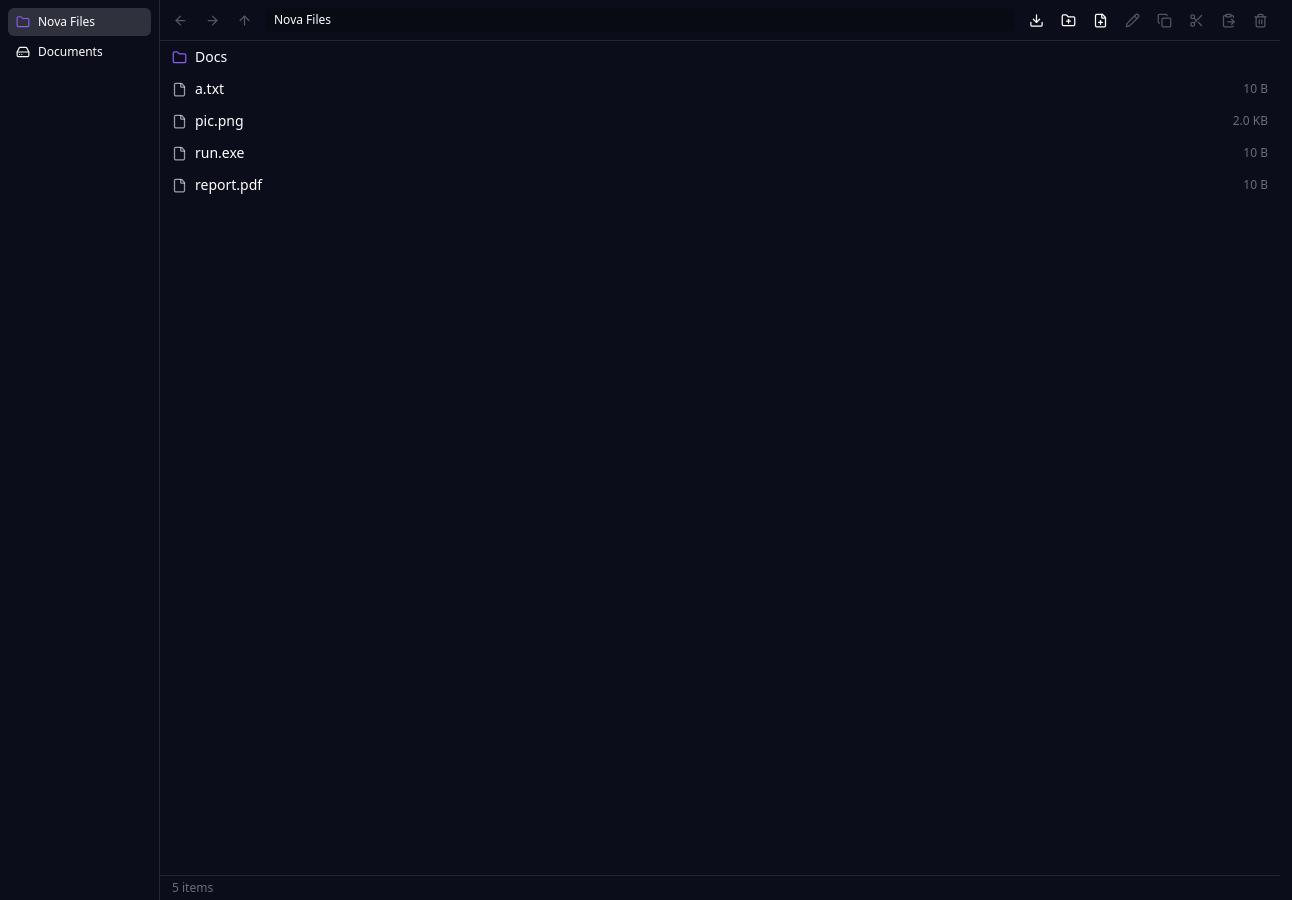
Test case: Nova Files › opens folders, navigates back and up
Double-click the button "Docs" at (211, 56), box left=160, top=41, right=1280, bottom=73
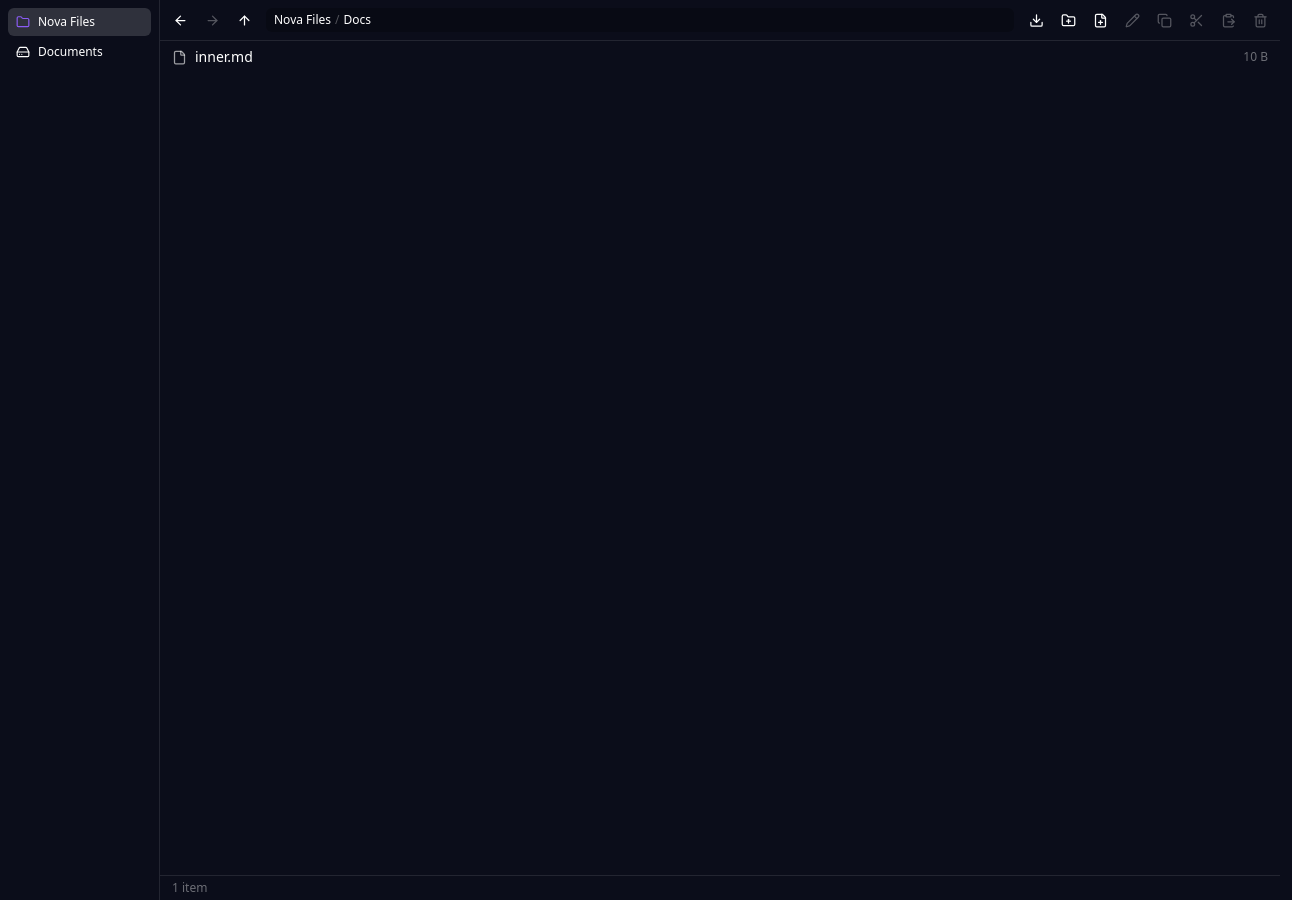
Result: the text "inner.md" is shown at left=195, top=47, right=253, bottom=66
Click the button named "Up" at (244, 20), box left=230, top=6, right=258, bottom=34
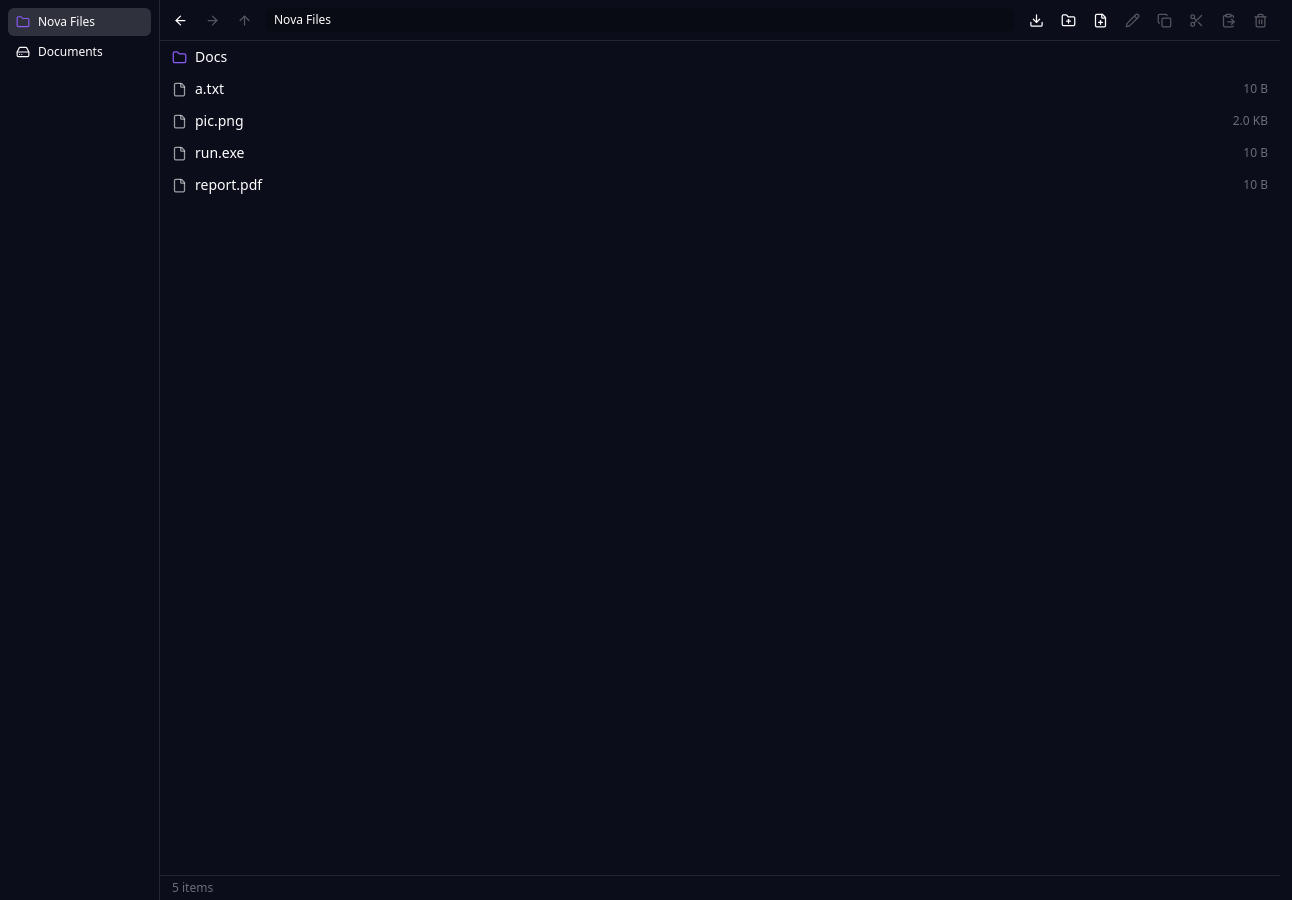
Result: the text "a.txt" is shown at left=195, top=79, right=224, bottom=98
Click the button named "Back" at (180, 20), box left=166, top=6, right=194, bottom=34
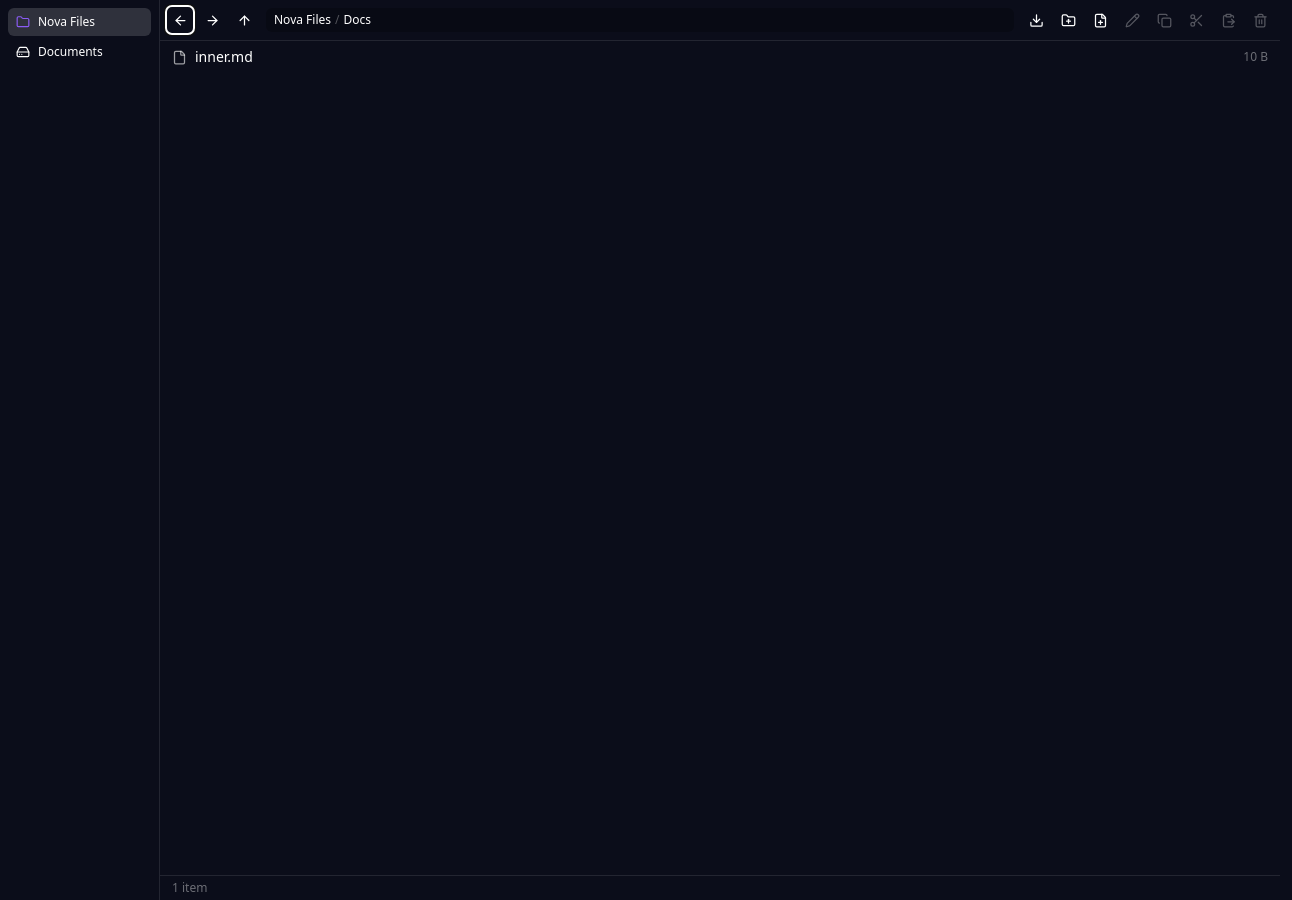
Result: the text "inner.md" is shown at left=195, top=47, right=253, bottom=66
